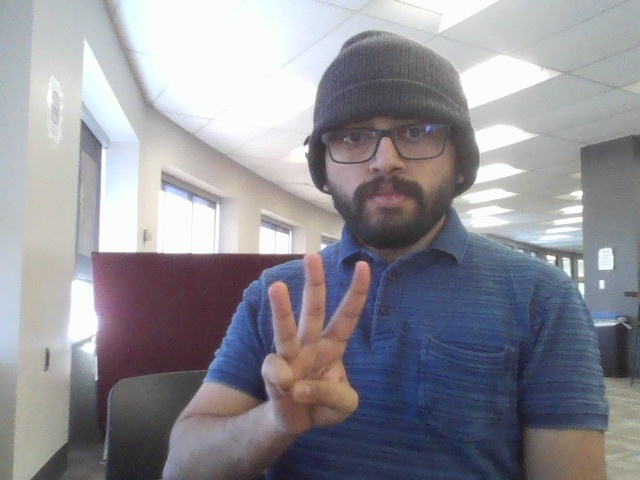start: (256, 252, 378, 443)
